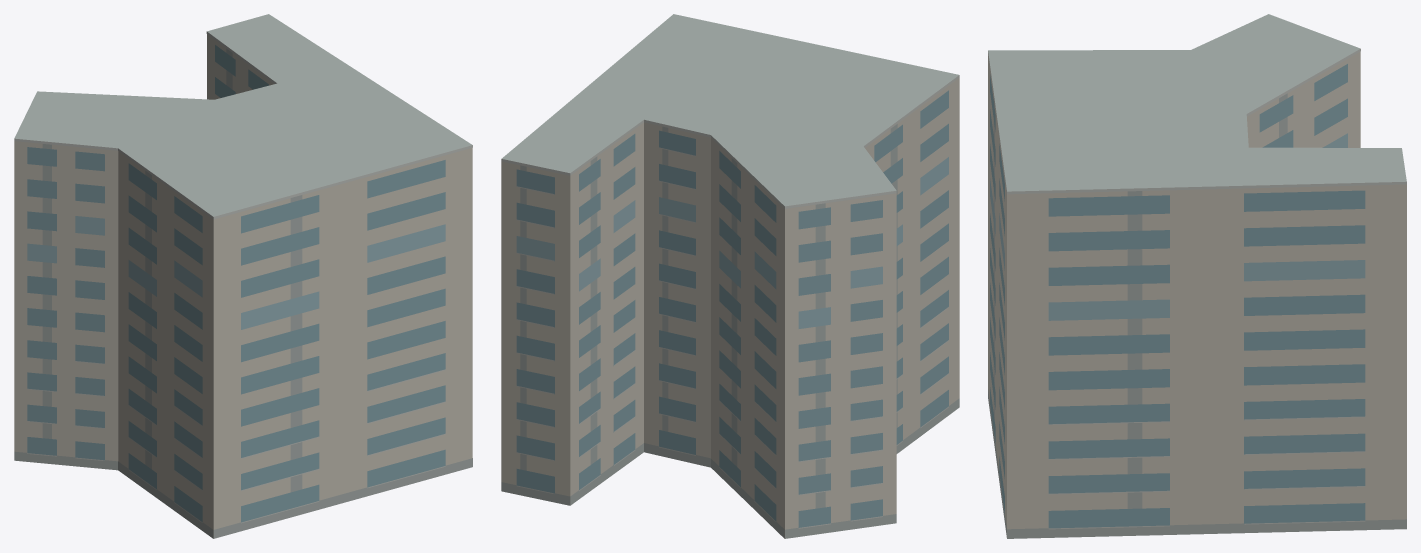
File: residential-707e76da-40d3-4727-9c80-b43240266440.glb
The picture shows the model from 3 angles, left to right: view 1: azimuth 30°, elevation 25°; view 2: azimuth 150°, elevation 25°; view 3: azimuth 270°, elevation 25°; orthographic projection. The views are drawn at different scales.
Parts seen in each view (by area): view 1: residential-707e76da-40d3-4727-9c80-b43240266440.tmp; view 2: residential-707e76da-40d3-4727-9c80-b43240266440.tmp; view 3: residential-707e76da-40d3-4727-9c80-b43240266440.tmp.
Boxes of the visible parts, x1=… form: residential-707e76da-40d3-4727-9c80-b43240266440.tmp: x1=14, y1=14, x2=472, y2=538; residential-707e76da-40d3-4727-9c80-b43240266440.tmp: x1=501, y1=14, x2=959, y2=538; residential-707e76da-40d3-4727-9c80-b43240266440.tmp: x1=988, y1=14, x2=1406, y2=538.
Size of the model in its own units: 34 by 31 by 33.89.
